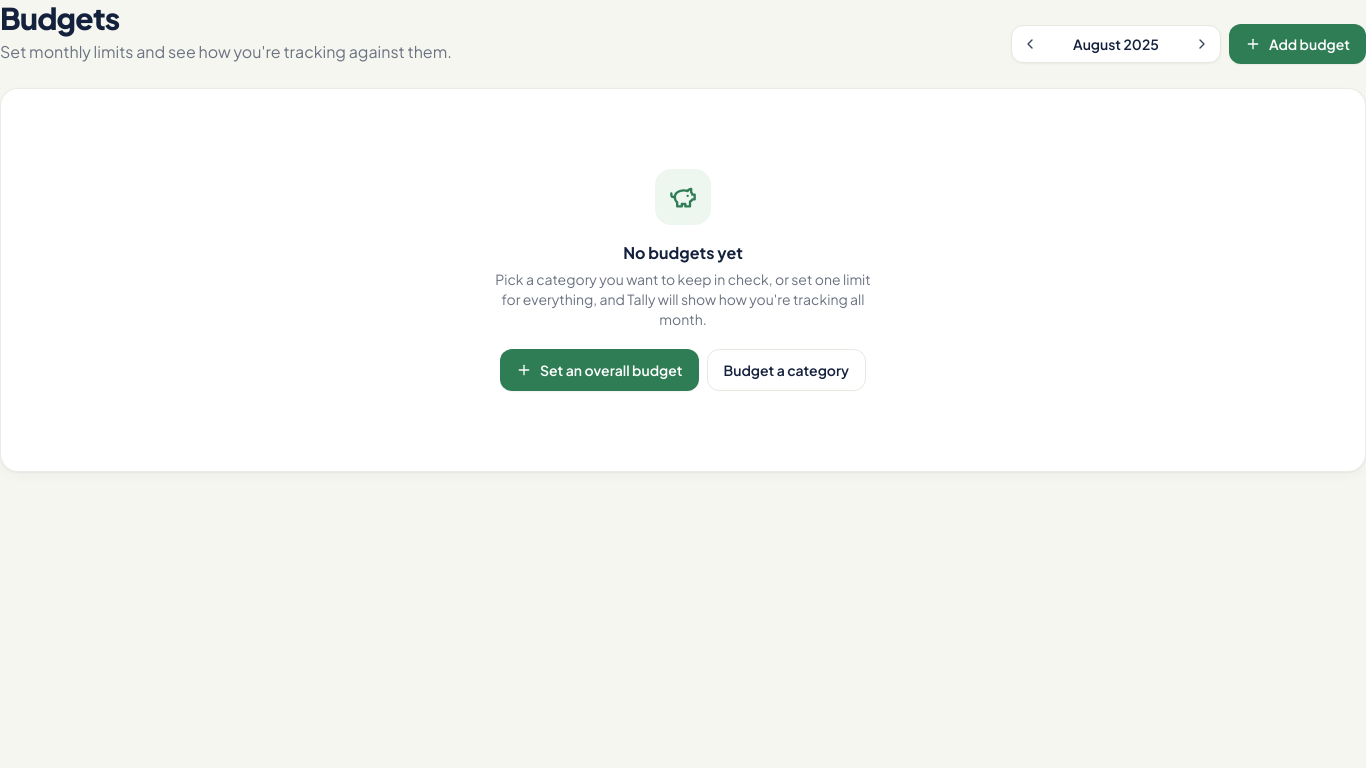
Budgets page - creating › will not save an empty, zero or negative limit
Click the button "Add budget": (1298, 44) [1229, 24, 1365, 64]
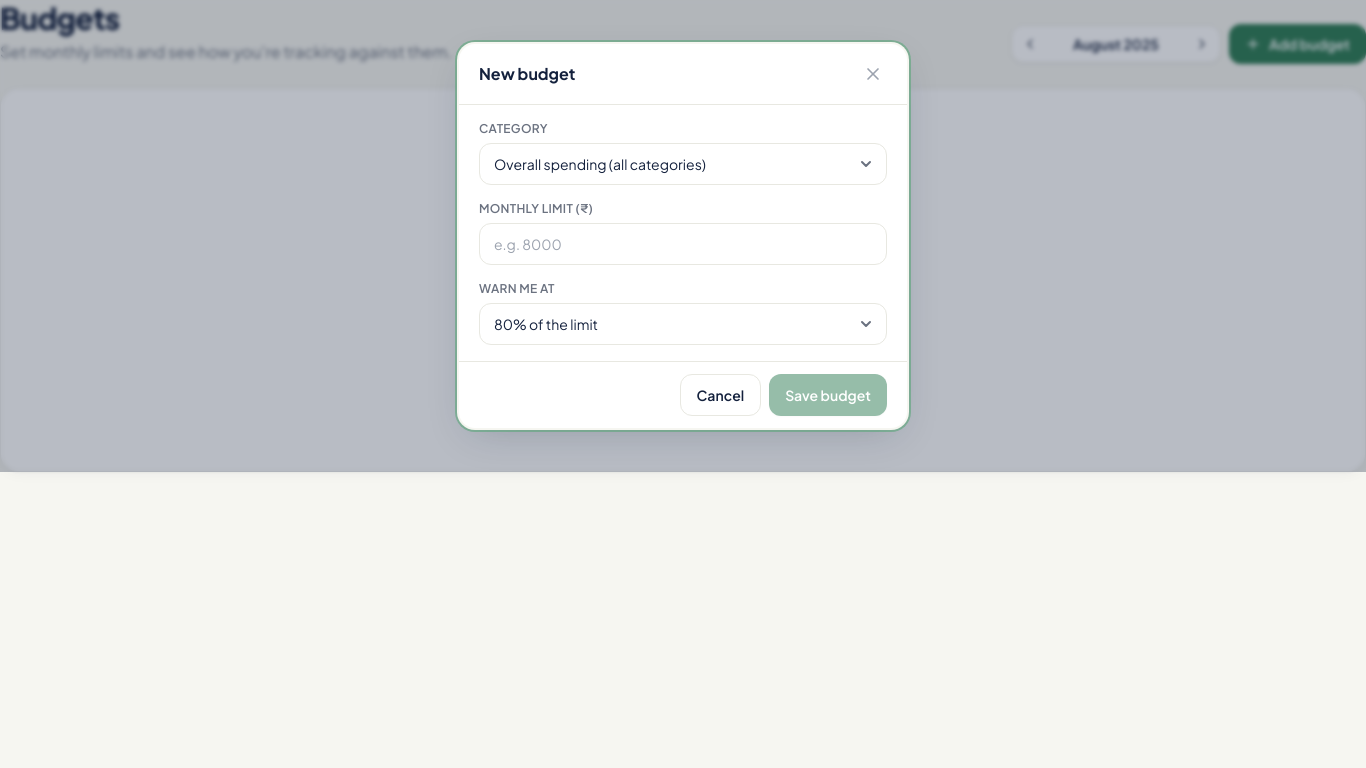
Check: the button "Save budget" is disabled, box [769, 374, 887, 416]
In the number field labelled "Monthly limit (₹)": (683, 244) [479, 223, 887, 265], type "0"
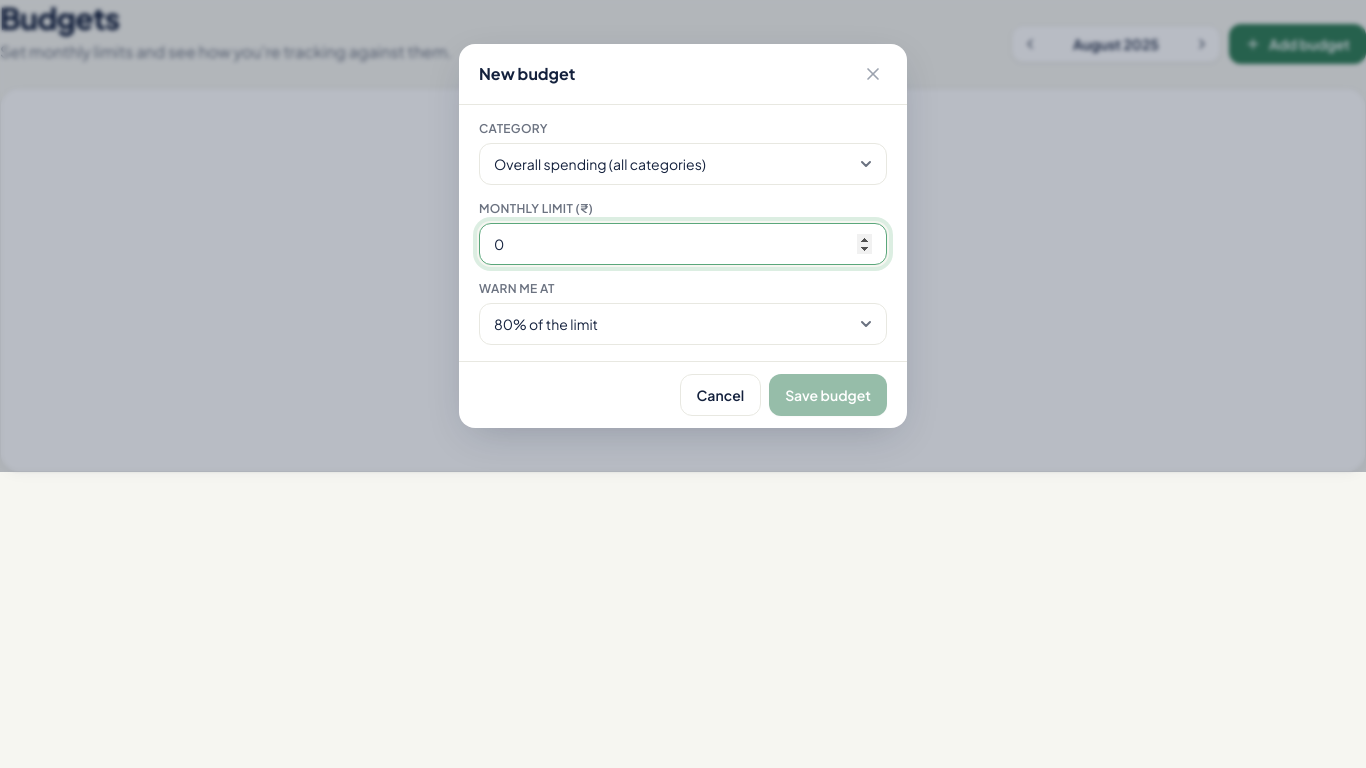
Check: the button "Save budget" is disabled, box [769, 374, 887, 416]
Replace the text in the number field labelled "Monthly limit (₹)" with "-50": (683, 244) [479, 223, 887, 265]
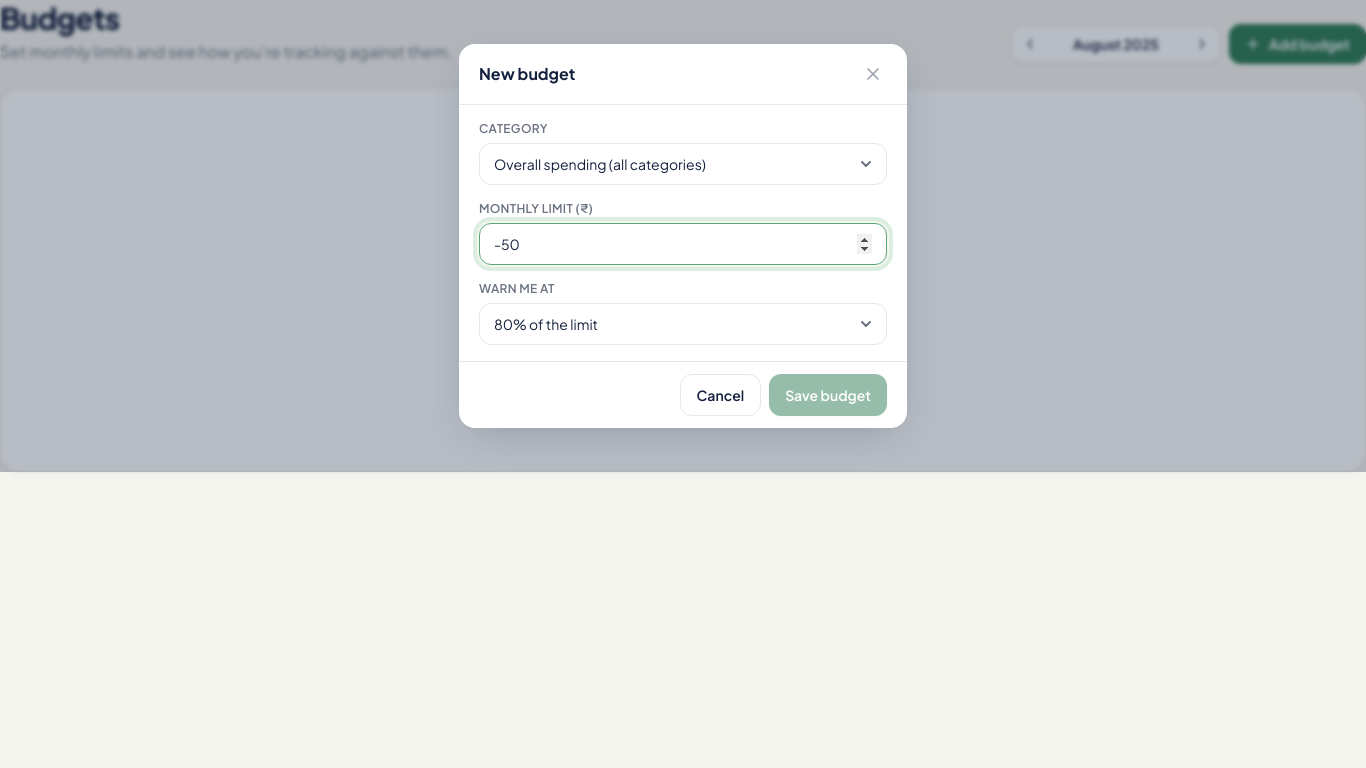
Check: the button "Save budget" is disabled, box [769, 374, 887, 416]
Replace the text in the number field labelled "Monthly limit (₹)" with "1500.50": (683, 244) [479, 223, 887, 265]
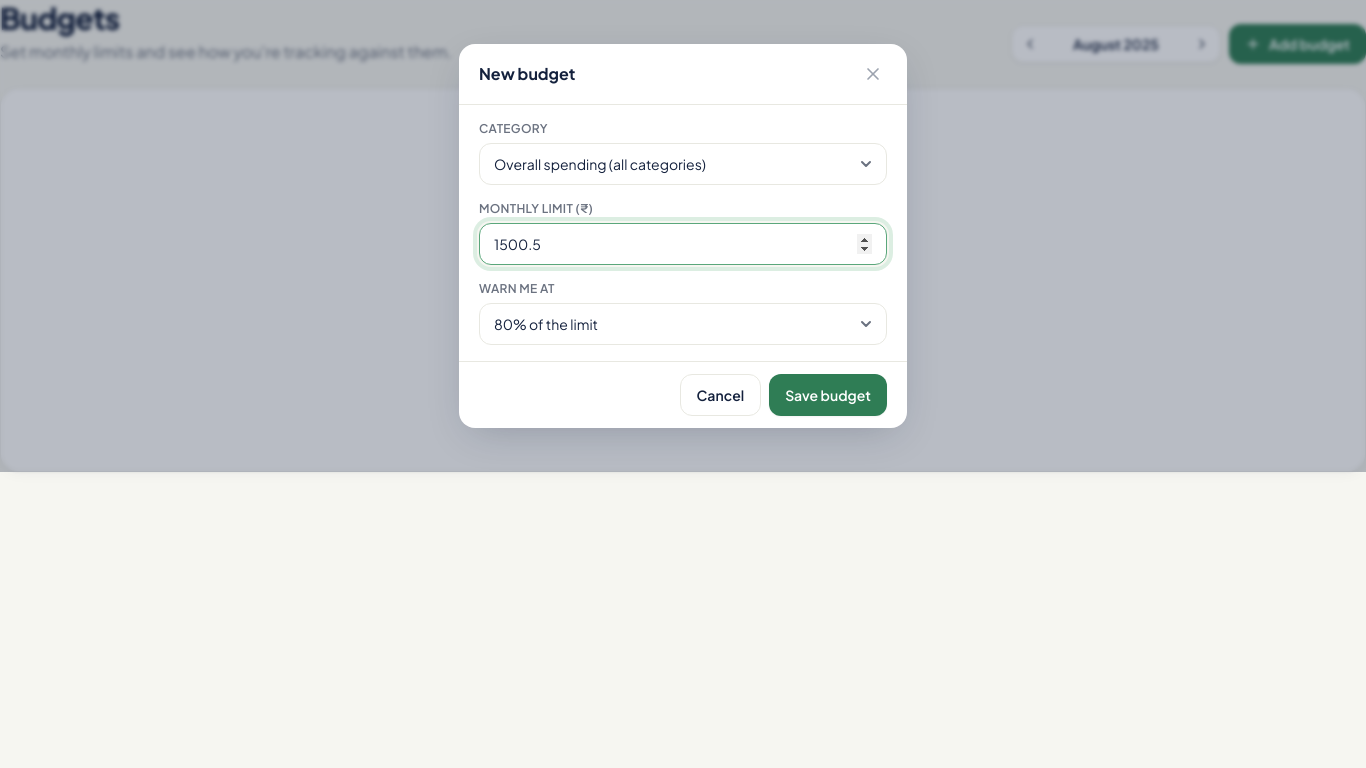
Check: the button "Save budget" is enabled, box [769, 374, 887, 416]
